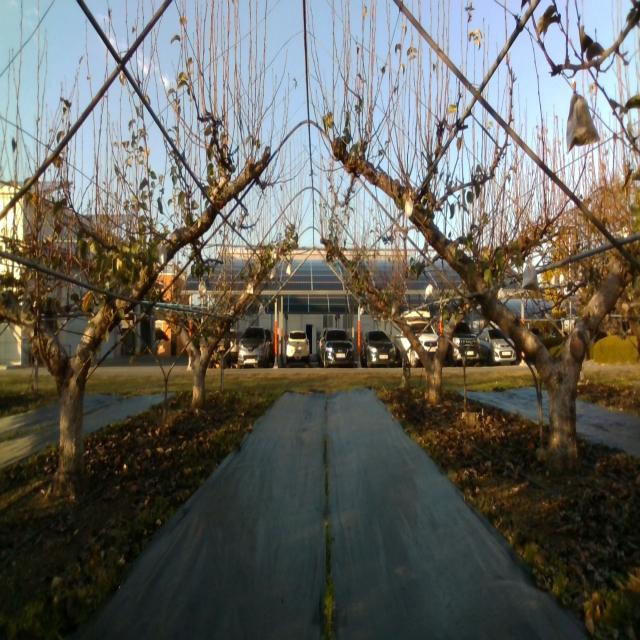pearbags: (566, 92, 601, 152), (522, 263, 540, 290)
